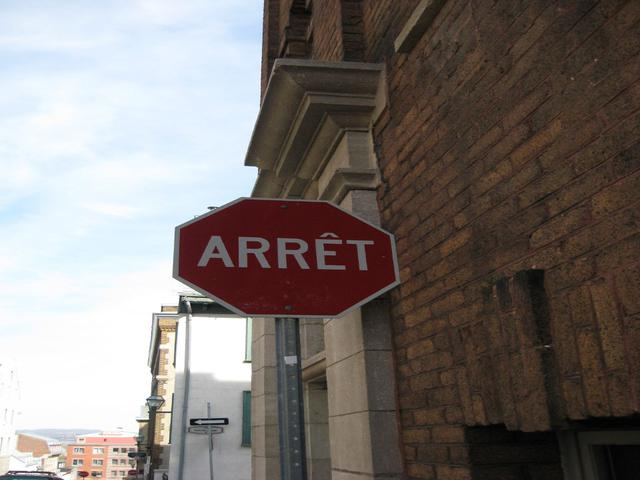stop: (166, 192, 417, 328)
